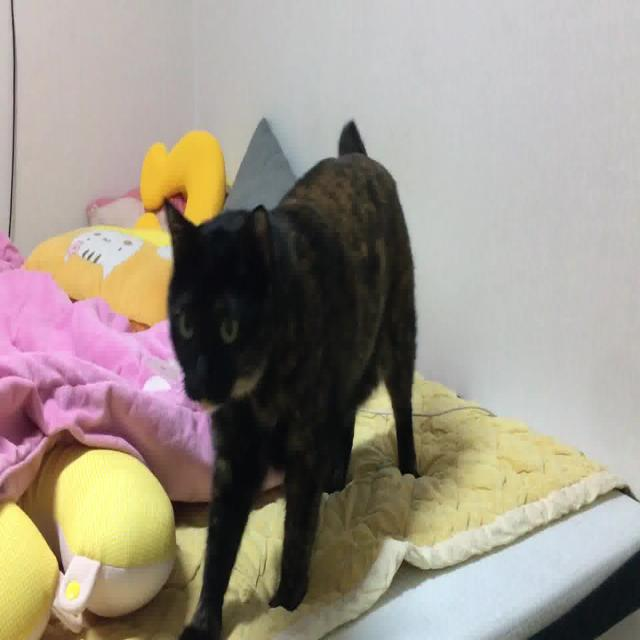cat: (162, 109, 434, 640)
